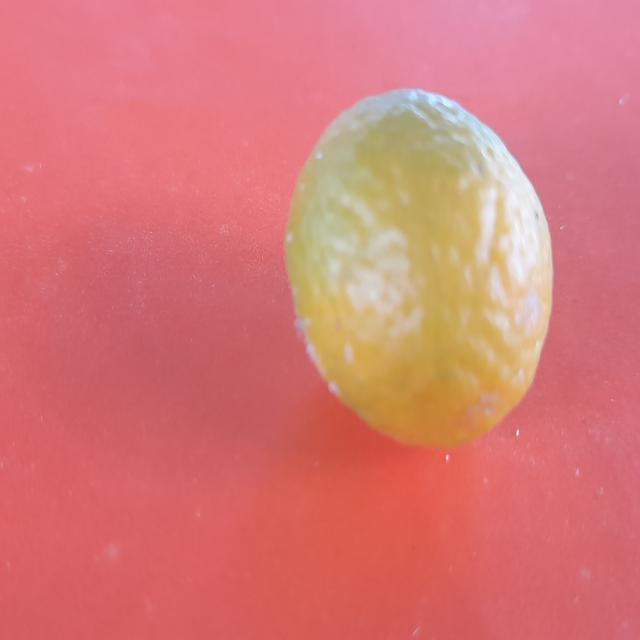greening: (272, 73, 560, 465)
